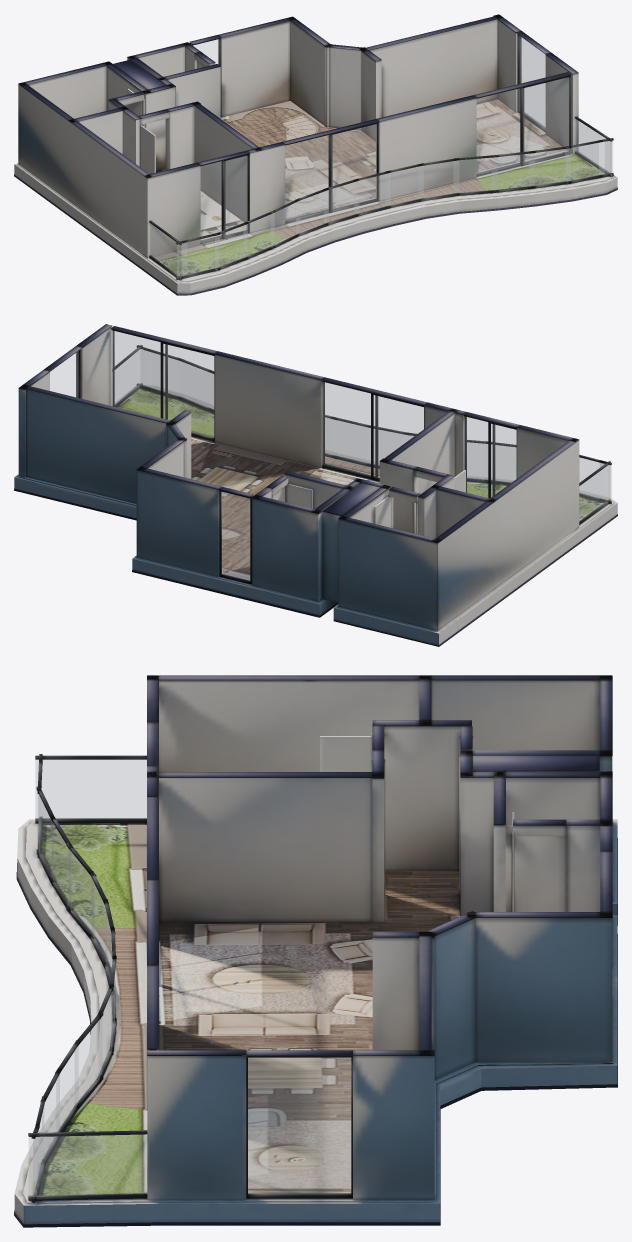
The picture shows the model from 3 angles, top to bottom: view 1: azimuth 30°, elevation 25°; view 2: azimuth 150°, elevation 25°; view 3: azimuth 270°, elevation 25°; orthographic projection. The views are drawn at different scales.
Parts seen in each view (by area): view 1: plan, glass2_m, glass1_m, glass0_m, glass3_m, railg5_m, railg4_m, railg3_m, railg6_m, railg2_m, railg7_m, railg14_m (+9 smaller); view 2: plan, glass2_m, glass1_m, glass0_m, glass4_m, railg16_m, railg8_m, glass3_m, railg3_m, railg0_m, railg2_m, railg13_m (+3 smaller); view 3: plan, glass3_m, railg0_m, railg16_m, railg5_m, railg12_m, railg4_m, railg13_m, railg11_m, railg10_m, railg3_m, railg6_m.
Boxes of the visible parts, x1,y1,x2,y2 form: plan: (14,14,617,295); glass2_m: (477,77,568,173); glass1_m: (285,124,376,220); glass0_m: (201,156,247,241); glass3_m: (519,36,545,128); railg5_m: (454,157,497,193); railg4_m: (492,153,534,190); railg3_m: (529,148,570,186); railg6_m: (418,160,459,198); railg2_m: (565,142,604,181); railg7_m: (385,166,423,205); railg14_m: (182,235,219,275); plan: (14,324,617,646); glass2_m: (112,331,213,437); glass1_m: (323,382,423,477); glass0_m: (465,417,516,497); glass4_m: (221,492,249,580); railg16_m: (579,465,609,521); railg8_m: (338,421,366,462); glass3_m: (50,351,78,397); railg3_m: (183,363,208,407); railg0_m: (115,350,139,404); railg2_m: (151,353,177,395); railg13_m: (496,445,515,482); plan: (14,675,617,1227); glass3_m: (248,1058,350,1194); railg0_m: (29,1134,146,1196); railg16_m: (35,760,146,818); railg5_m: (75,1017,101,1106); railg12_m: (68,848,94,937); railg4_m: (56,1046,78,1131); railg13_m: (51,821,71,909); railg11_m: (91,878,107,964); railg10_m: (38,794,53,880); railg3_m: (42,1075,59,1158); railg6_m: (98,992,112,1077).
Size of the model in its own units: 12.94 by 2.62 by 8.55.
Materials: 2 (1 with a texture image).
